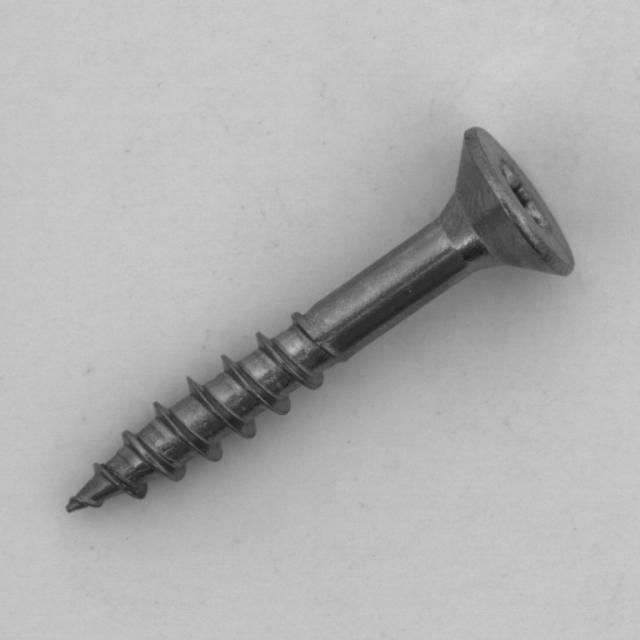Screw: (43, 115, 594, 546)
